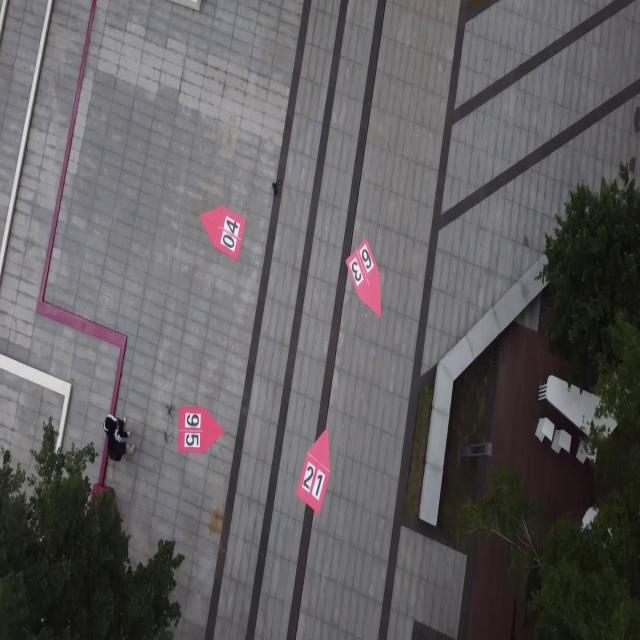-sign-: (296, 428, 332, 515), (346, 238, 382, 320), (200, 205, 246, 261), (178, 406, 225, 455)
